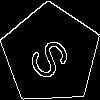S: (26, 29, 80, 84)
